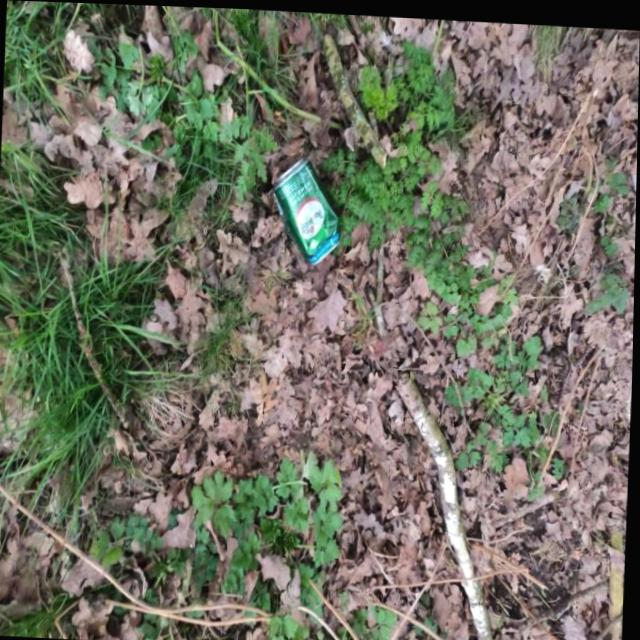Can-Metal: (269, 152, 342, 264)
